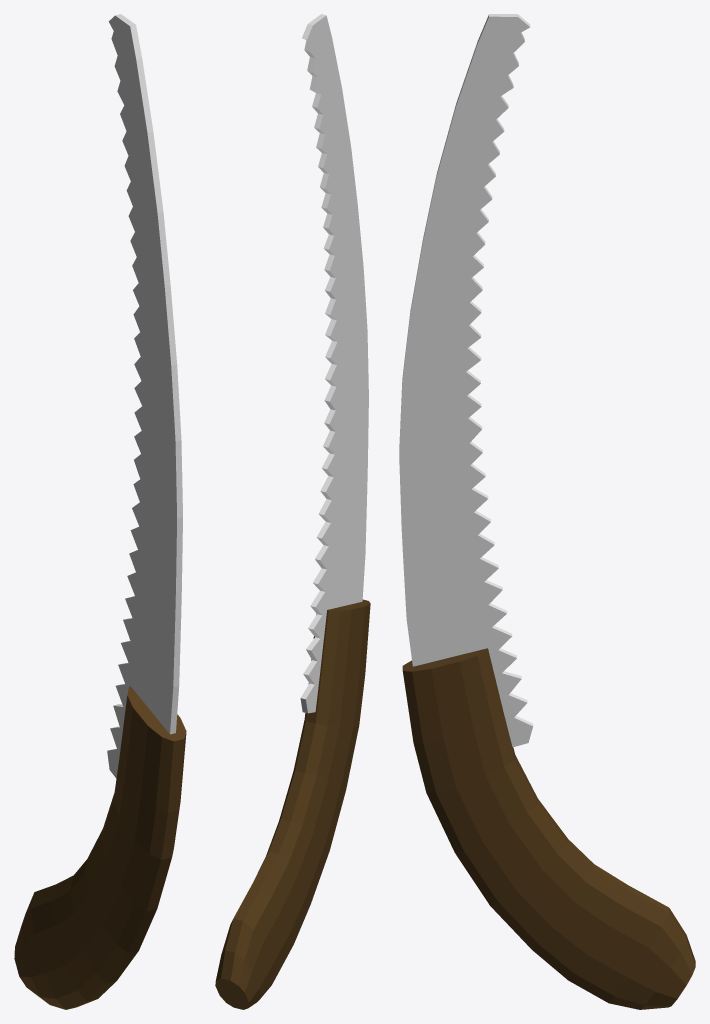
The model's file is saw_handsaw.glb.
3 renders of one model, left to right at view 1: azimuth 30°, elevation 25°; view 2: azimuth 150°, elevation 25°; view 3: azimuth 270°, elevation 25°, orthographic. The views are drawn at different scales.
Visible parts, largest first — view 1: saw_handsaw; view 2: saw_handsaw; view 3: saw_handsaw.
Part boxes in pixels (x1=…): saw_handsaw: x1=14, y1=14, x2=186, y2=1009; saw_handsaw: x1=215, y1=14, x2=370, y2=1009; saw_handsaw: x1=399, y1=14, x2=695, y2=1009.
Size of the model in its own units: 0.0159 by 0.483 by 0.1309.
